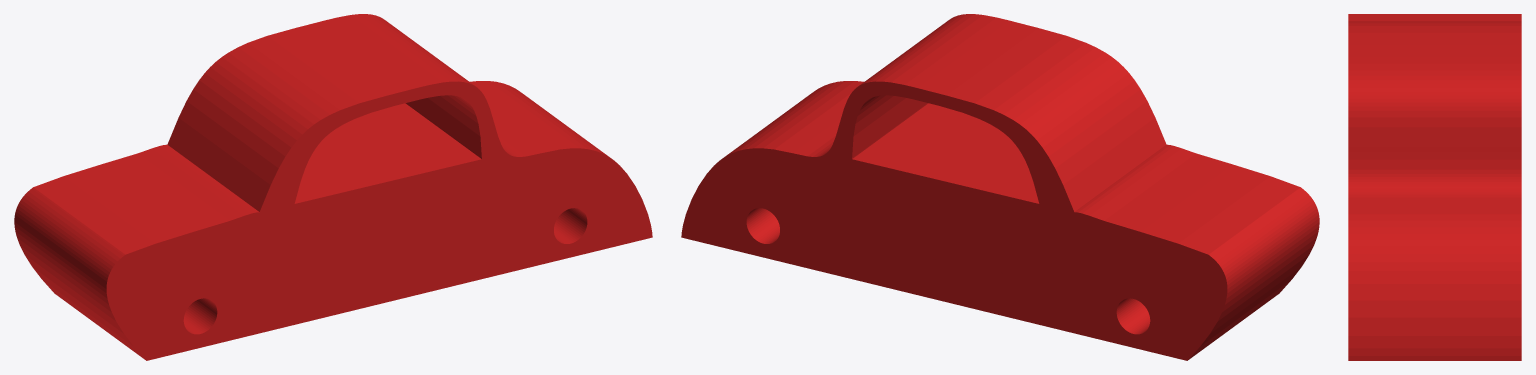
Rendered from 1_colored.obj.
The picture shows the model from 3 angles, left to right: view 1: azimuth 30°, elevation 25°; view 2: azimuth 150°, elevation 25°; view 3: azimuth 270°, elevation 25°; orthographic projection. The views are drawn at different scales.
Bounding box in the file's own units: 0.171 × 0.0619 × 0.05.
